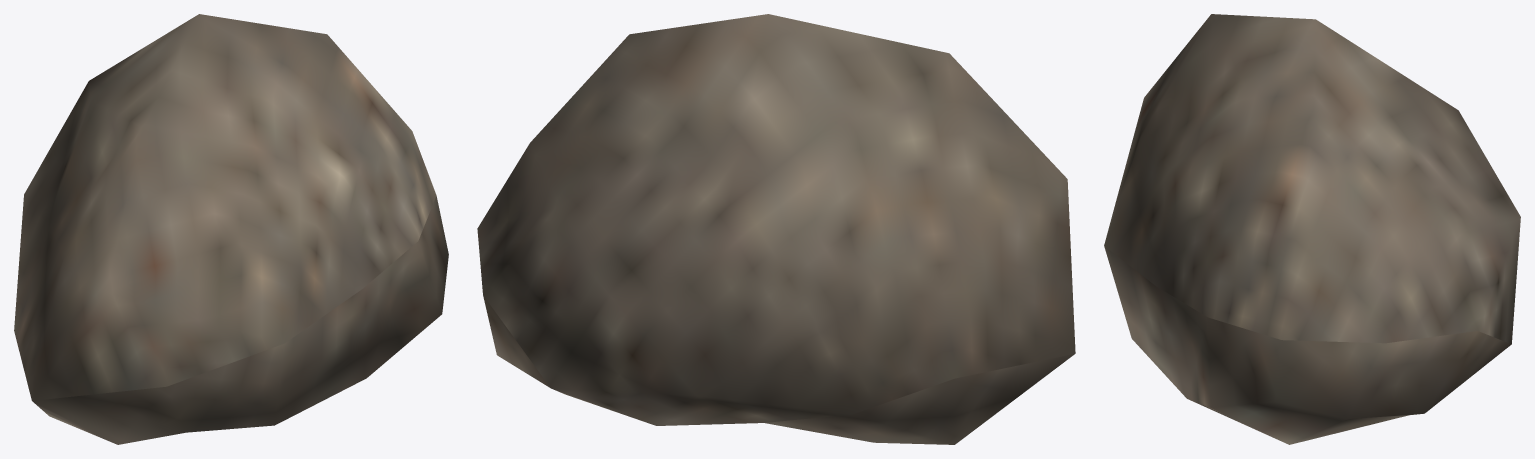
File: rock_Medium_002.fbx
The picture shows the model from 3 angles, left to right: view 1: azimuth 30°, elevation 25°; view 2: azimuth 150°, elevation 25°; view 3: azimuth 270°, elevation 25°; orthographic projection. The views are drawn at different scales.
Parts seen in each view (by area): view 1: rock_Medium.002; view 2: rock_Medium.002; view 3: rock_Medium.002.
Part boxes in pixels (<box>): rock_Medium.002: <box>14,14,448,444</box>; rock_Medium.002: <box>477,14,1075,444</box>; rock_Medium.002: <box>1104,14,1520,444</box>.
Bounding box in the file's own units: 180 × 141 × 148.
1 material, 1 textured.
